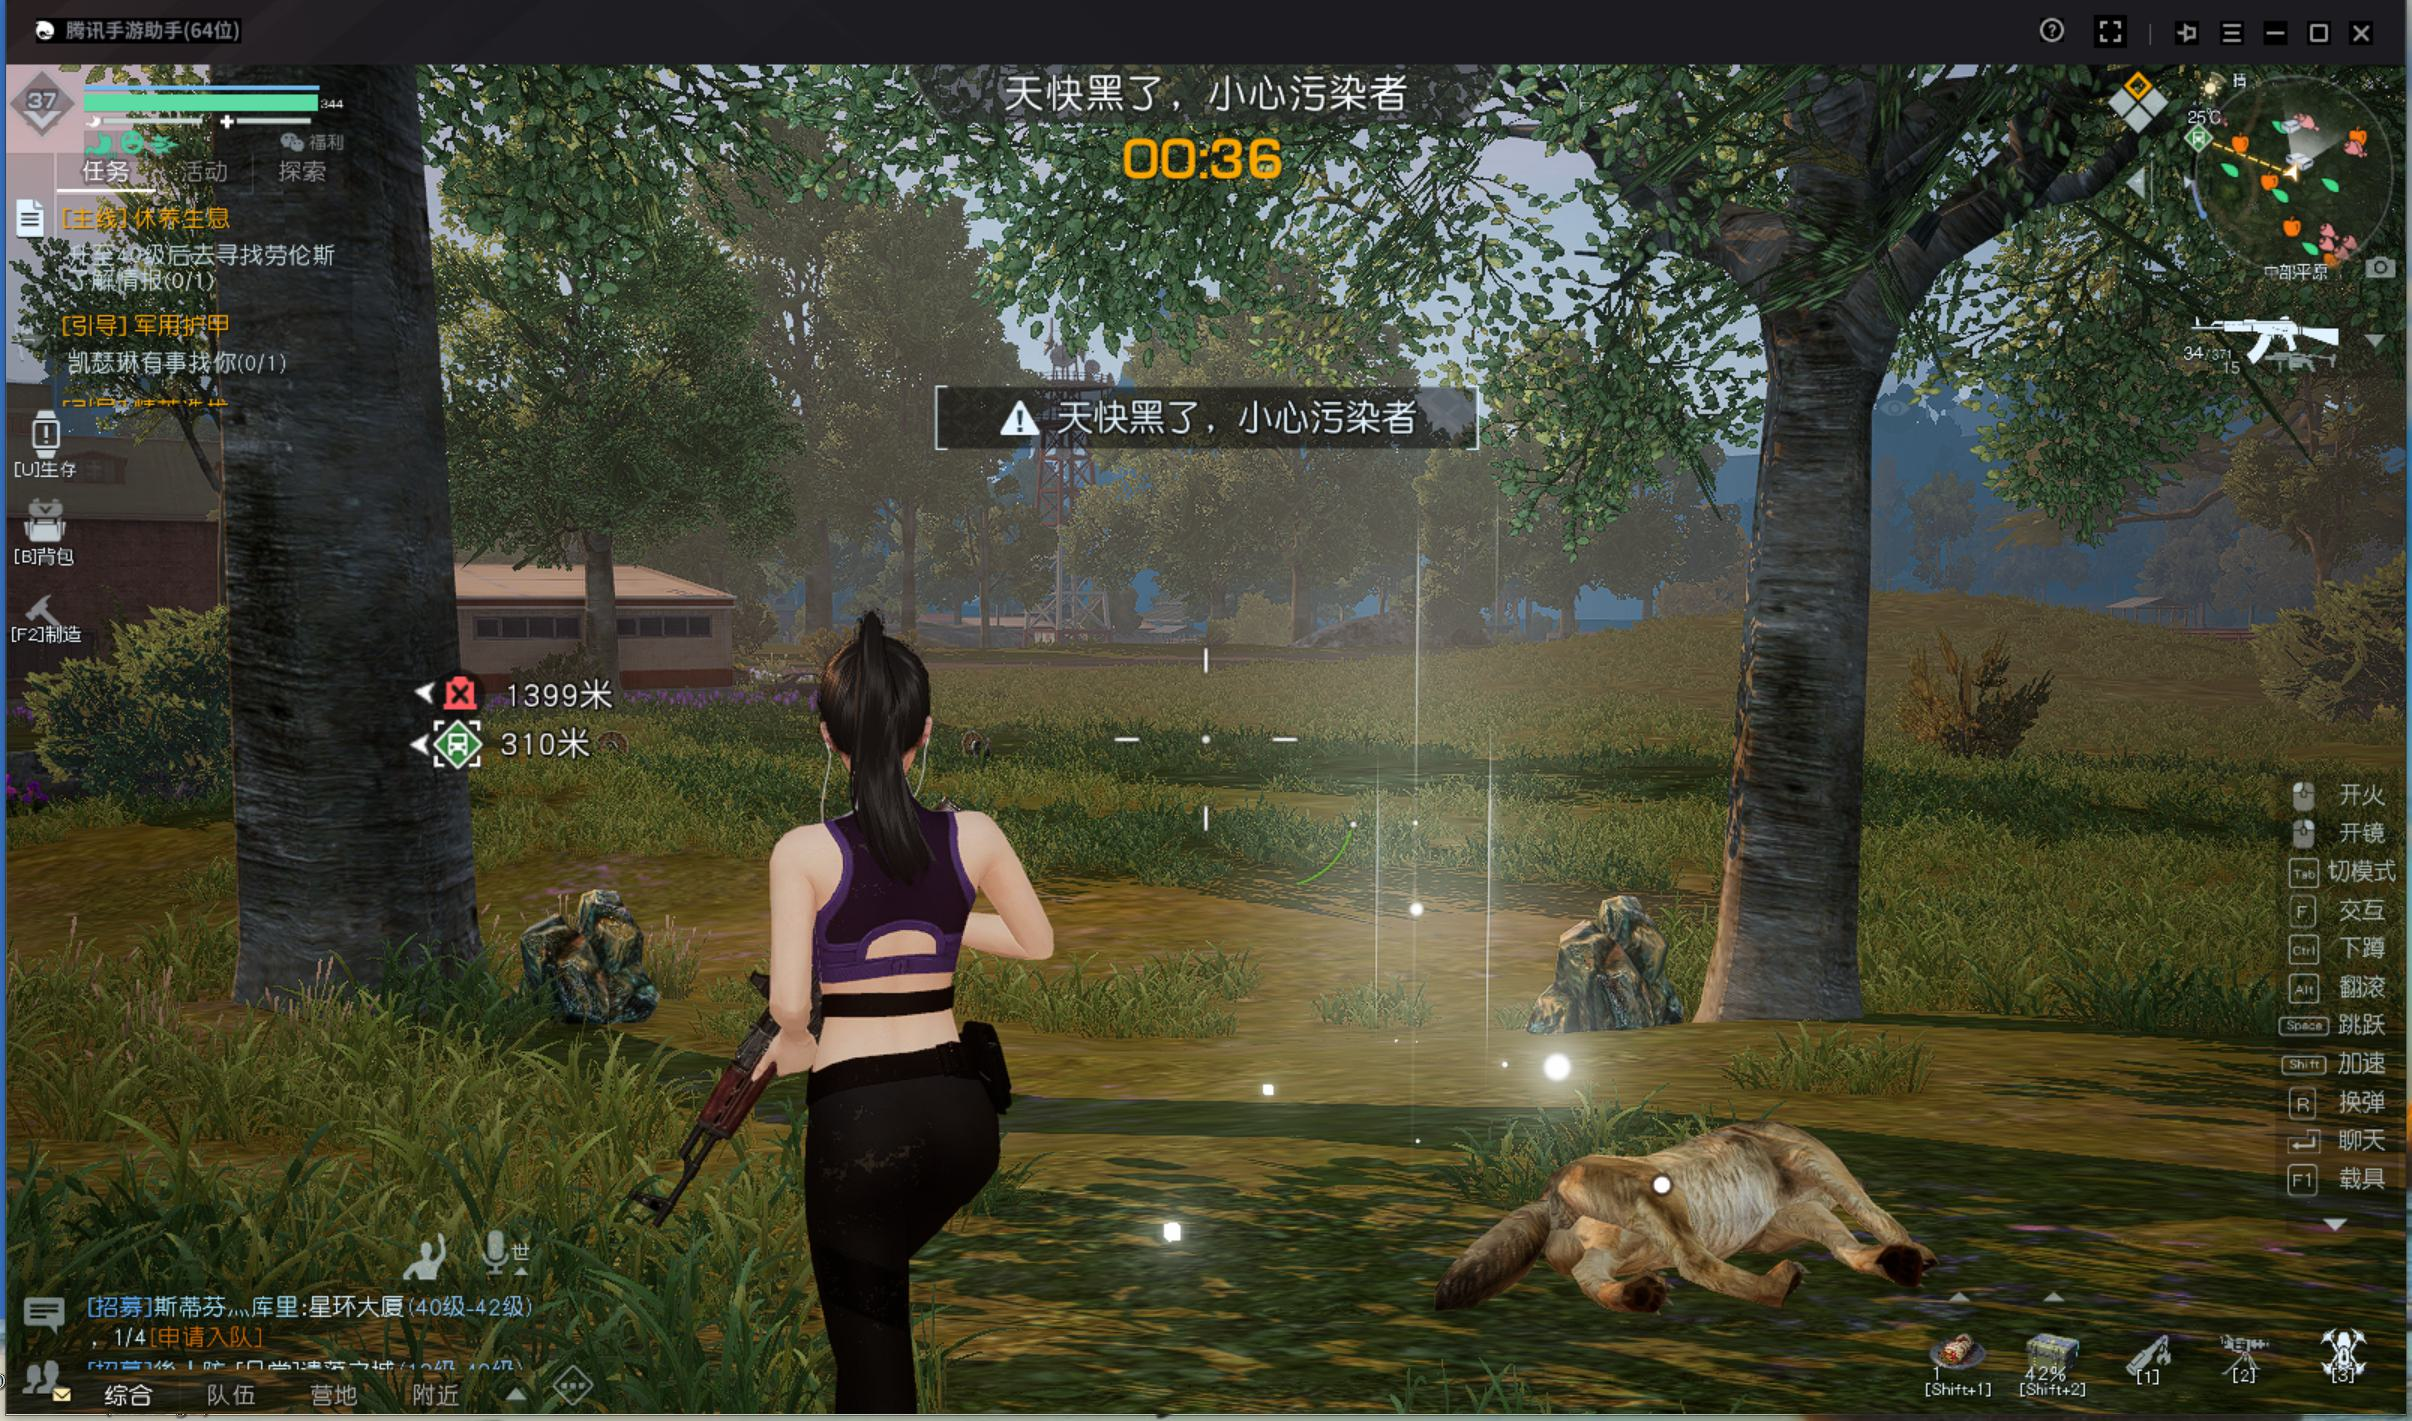stone: (1514, 854, 1695, 1059), (514, 851, 666, 1040)
tree: (184, 193, 480, 1059), (1681, 376, 1911, 1081), (573, 516, 634, 721), (792, 506, 841, 638)
